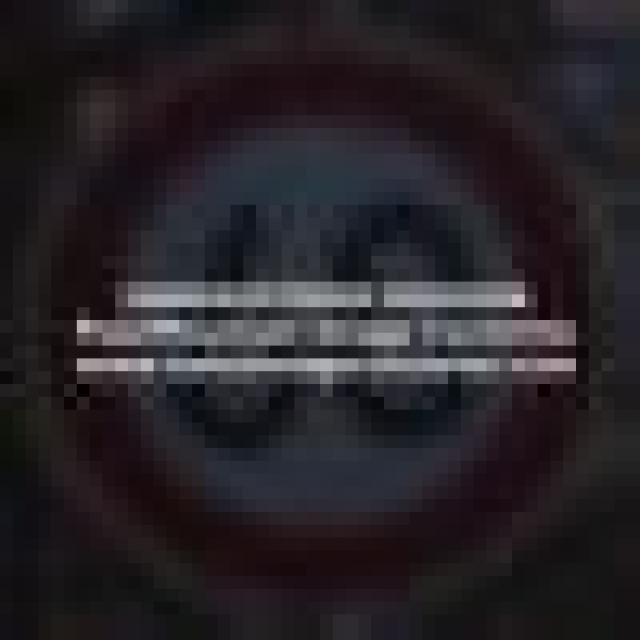SPEED_LIMIT_60: (51, 51, 576, 563)
